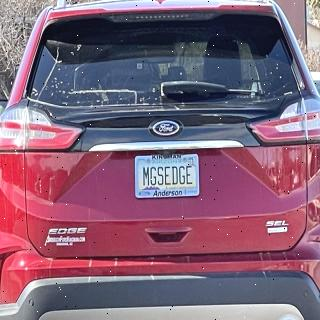license: (135, 154, 201, 200)
